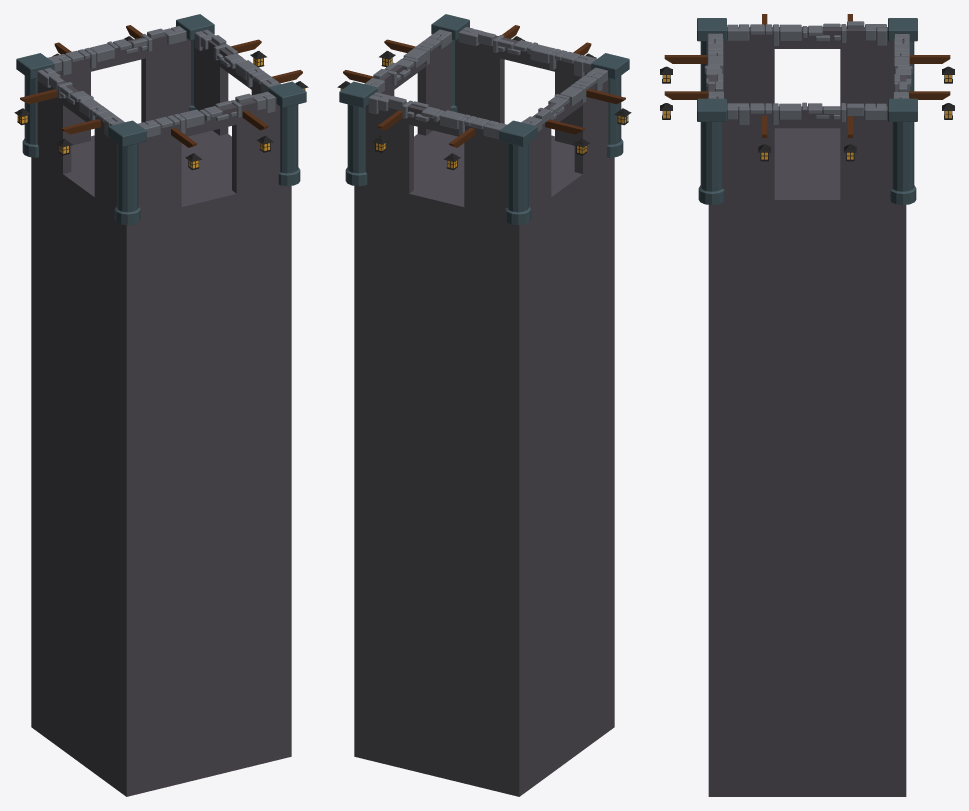
The picture shows the model from 3 angles, left to right: view 1: azimuth 30°, elevation 25°; view 2: azimuth 150°, elevation 25°; view 3: azimuth 270°, elevation 25°; orthographic projection. The views are drawn at different scales.
Parts seen in each view (by area): view 1: Plane, Pillar.002|Cylinder_L_pillars.blend|Dupli|, Pillar.001|Cylinder_L_pillars.blend|Dupli|, Pillar.003|Cylinder_L_pillars.blend|Dupli|, Pillar.002|Plane_L_pillars.blend|Dupli|1, Pillar.001|Plane_L_pillars.blend|Dupli|1, Pillar.003|Plane_L_pillars.blend|Dupli|1, Pillar|Plane_L_pillars.blend|Dupli|1; view 2: Plane, Pillar.003|Cylinder_L_pillars.blend|Dupli|, Pillar|Cylinder_L_pillars.blend|Dupli|, Pillar.002|Cylinder_L_pillars.blend|Dupli|, Pillar.003|Plane_L_pillars.blend|Dupli|1, Pillar|Plane_L_pillars.blend|Dupli|1, Pillar.002|Plane_L_pillars.blend|Dupli|1, Pillar.001|Plane_L_pillars.blend|Dupli|1; view 3: Plane, Pillar|Cylinder_L_pillars.blend|Dupli|, Pillar.001|Cylinder_L_pillars.blend|Dupli|, Pillar|Plane_L_pillars.blend|Dupli|1, Pillar.001|Plane_L_pillars.blend|Dupli|1, Pillar.003|Plane_L_pillars.blend|Dupli|1, Pillar.002|Plane_L_pillars.blend|Dupli|1.
Part boxes in pixels (bbox=[...]): Plane: bbox=[31, 31, 291, 796]; Pillar.002|Cylinder_L_pillars.blend|Dupli|: bbox=[114, 143, 140, 225]; Pillar.001|Cylinder_L_pillars.blend|Dupli|: bbox=[278, 104, 300, 186]; Pillar.003|Cylinder_L_pillars.blend|Dupli|: bbox=[22, 75, 38, 157]; Pillar.002|Plane_L_pillars.blend|Dupli|1: bbox=[108, 120, 146, 146]; Pillar.001|Plane_L_pillars.blend|Dupli|1: bbox=[268, 81, 306, 107]; Pillar.003|Plane_L_pillars.blend|Dupli|1: bbox=[16, 53, 54, 79]; Pillar|Plane_L_pillars.blend|Dupli|1: bbox=[176, 14, 214, 40]; Plane: bbox=[354, 30, 614, 796]; Pillar.003|Cylinder_L_pillars.blend|Dupli|: bbox=[505, 143, 531, 225]; Pillar|Cylinder_L_pillars.blend|Dupli|: bbox=[345, 104, 367, 186]; Pillar.002|Cylinder_L_pillars.blend|Dupli|: bbox=[607, 75, 623, 157]; Pillar.003|Plane_L_pillars.blend|Dupli|1: bbox=[499, 120, 537, 146]; Pillar|Plane_L_pillars.blend|Dupli|1: bbox=[339, 81, 377, 107]; Pillar.002|Plane_L_pillars.blend|Dupli|1: bbox=[591, 53, 629, 79]; Pillar.001|Plane_L_pillars.blend|Dupli|1: bbox=[431, 14, 469, 40]; Plane: bbox=[708, 27, 906, 796]; Pillar|Cylinder_L_pillars.blend|Dupli|: bbox=[890, 122, 916, 204]; Pillar.001|Cylinder_L_pillars.blend|Dupli|: bbox=[698, 122, 724, 204]; Pillar|Plane_L_pillars.blend|Dupli|1: bbox=[888, 98, 917, 121]; Pillar.001|Plane_L_pillars.blend|Dupli|1: bbox=[697, 98, 726, 121]; Pillar.003|Plane_L_pillars.blend|Dupli|1: bbox=[888, 18, 917, 41]; Pillar.002|Plane_L_pillars.blend|Dupli|1: bbox=[697, 18, 726, 41].
Bounding box in the file's own units: 895 × 2314 × 895.
